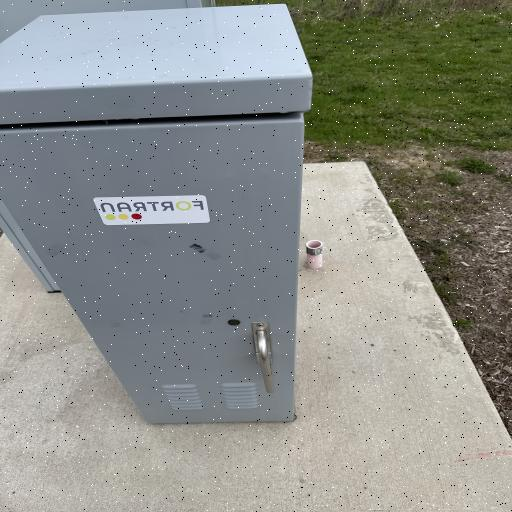Electrical Box: (0, 3, 316, 425)
